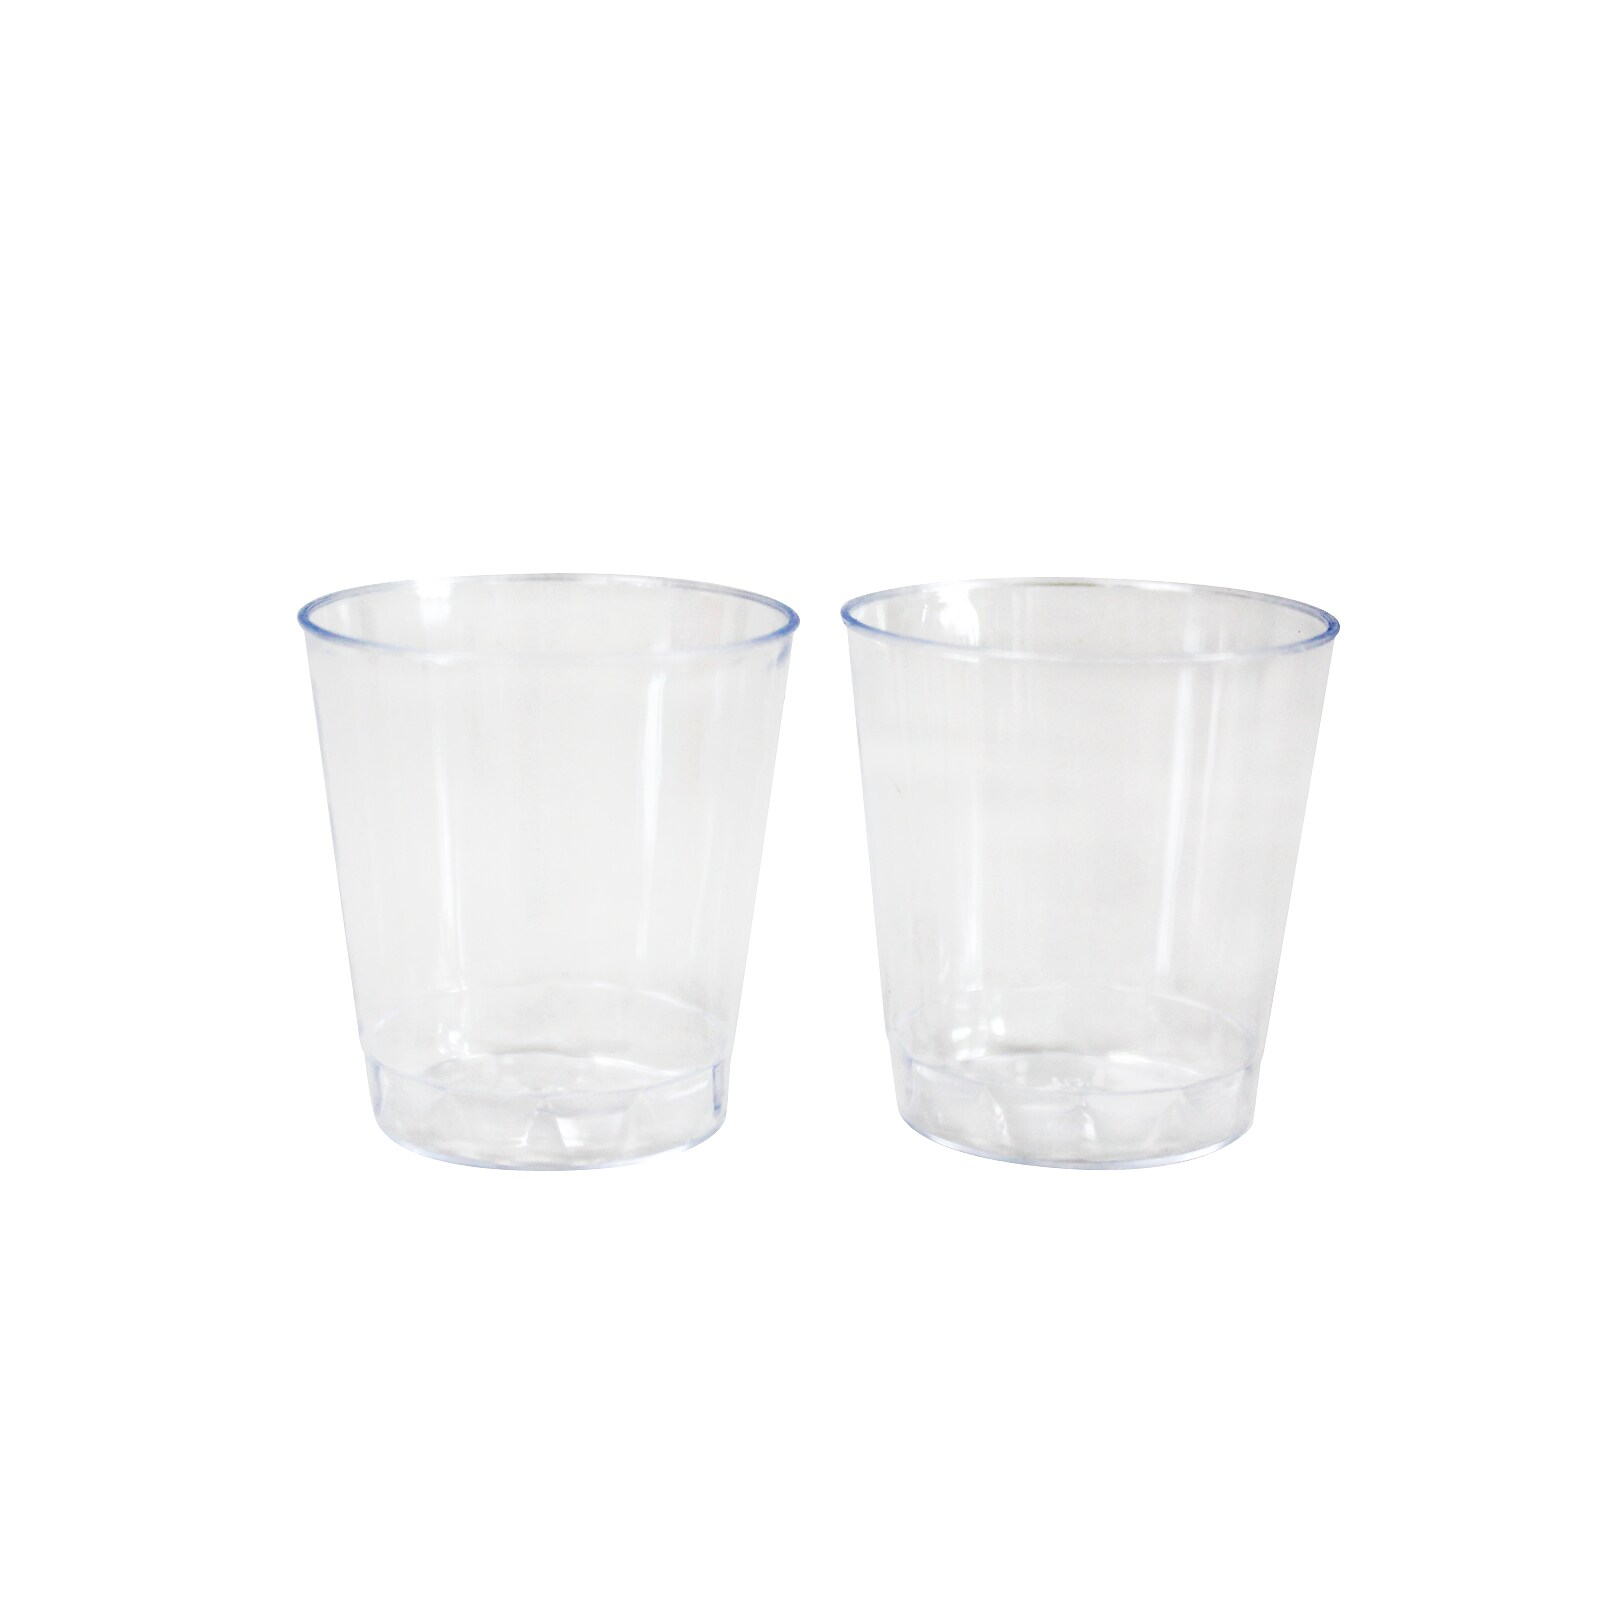plastic_glass: (809, 547, 1382, 1196), (289, 560, 815, 1188)
